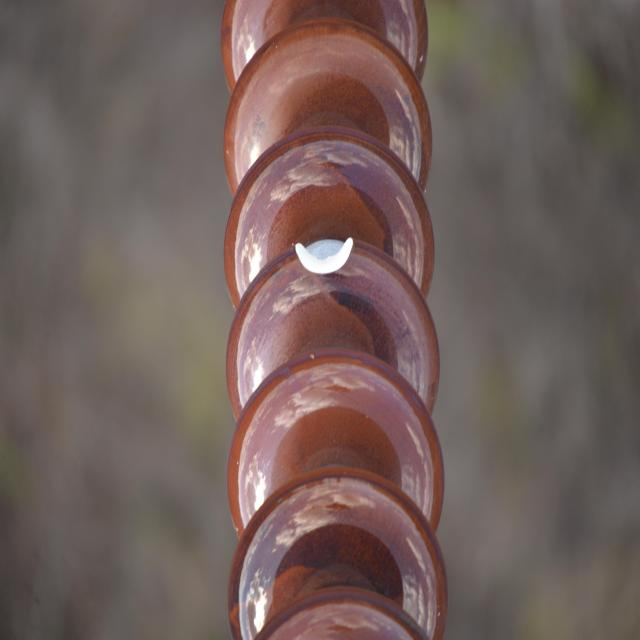broken: (294, 234, 354, 272)
insulator: (221, 0, 448, 639)
